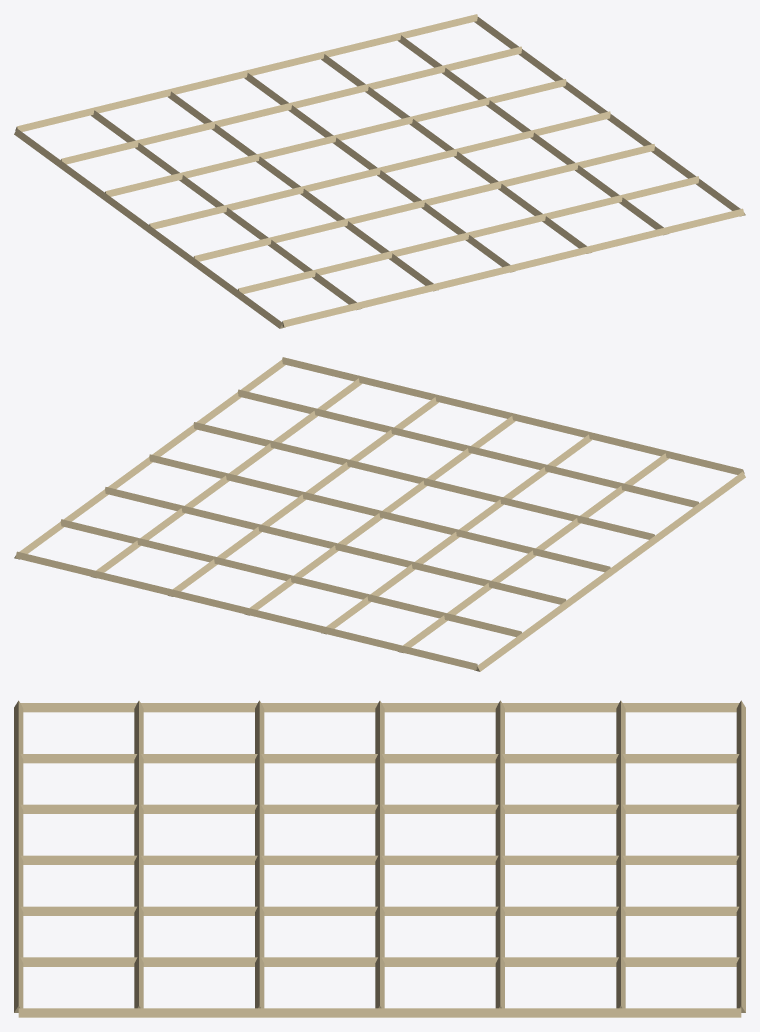
The model's file is net.glb.
3 views of the same model, one above another, from view 1: azimuth 30°, elevation 25°; view 2: azimuth 150°, elevation 25°; view 3: azimuth 270°, elevation 25° (orthographic). The views are drawn at different scales.
Visible parts, largest first — view 1: Weft, Weft.002, Weft.003, Weft.006, Weft.001, Weft.004, Weft.005, Warp, Warp.005, Warp.003, Warp.006, Warp.002 (+2 smaller); view 2: Weft.006, Weft.003, Weft.004, Weft, Weft.002, Weft.005, Weft.001, Warp, Warp.005, Warp.003, Warp.006, Warp.002 (+2 smaller); view 3: Warp.006, Warp.002, Warp.003, Warp.004, Warp.005, Warp, Warp.001, Weft, Weft.006, Weft.001, Weft.005, Weft.003 (+2 smaller).
Boxes of the visible parts, x1=… form: Weft: x1=282, y1=208, x2=744, y2=327; Weft.002: x1=193, y1=144, x2=654, y2=261; Weft.003: x1=149, y1=111, x2=610, y2=229; Weft.006: x1=15, y1=14, x2=477, y2=131; Weft.001: x1=238, y1=176, x2=699, y2=293; Weft.004: x1=105, y1=79, x2=566, y2=196; Weft.005: x1=61, y1=46, x2=521, y2=164; Warp: x1=14, y1=128, x2=285, y2=328; Warp.005: x1=397, y1=35, x2=668, y2=235; Warp.003: x1=244, y1=73, x2=515, y2=272; Warp.006: x1=474, y1=17, x2=745, y2=216; Warp.002: x1=168, y1=91, x2=438, y2=291; Weft.006: x1=15, y1=551, x2=477, y2=670; Weft.003: x1=149, y1=454, x2=610, y2=572; Weft.004: x1=105, y1=487, x2=566, y2=604; Weft: x1=282, y1=357, x2=744, y2=474; Weft.002: x1=193, y1=422, x2=654, y2=539; Weft.005: x1=60, y1=519, x2=521, y2=636; Weft.001: x1=238, y1=389, x2=698, y2=507; Warp: x1=474, y1=471, x2=745, y2=671; Warp.005: x1=91, y1=378, x2=362, y2=578; Warp.003: x1=244, y1=416, x2=515, y2=615; Warp.006: x1=14, y1=360, x2=285, y2=559; Warp.002: x1=321, y1=434, x2=591, y2=634; Warp.006: x1=18, y1=1008, x2=741, y2=1017; Warp.002: x1=20, y1=804, x2=739, y2=813; Warp.003: x1=21, y1=855, x2=738, y2=864; Warp.004: x1=21, y1=906, x2=738, y2=915; Warp.005: x1=20, y1=957, x2=739, y2=966; Warp: x1=20, y1=703, x2=739, y2=712; Warp.001: x1=20, y1=754, x2=739, y2=763; Weft: x1=14, y1=700, x2=23, y2=1012; Weft.006: x1=736, y1=700, x2=745, y2=1012; Weft.001: x1=134, y1=700, x2=143, y2=1008; Weft.005: x1=616, y1=700, x2=625, y2=1008; Weft.003: x1=375, y1=701, x2=384, y2=1008.
Size of the model in its own units: 1.22 by 0.0185 by 1.22.
